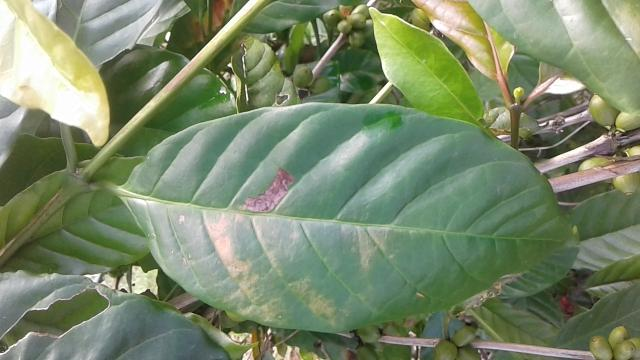red_spider_mite: (119, 102, 580, 328)
